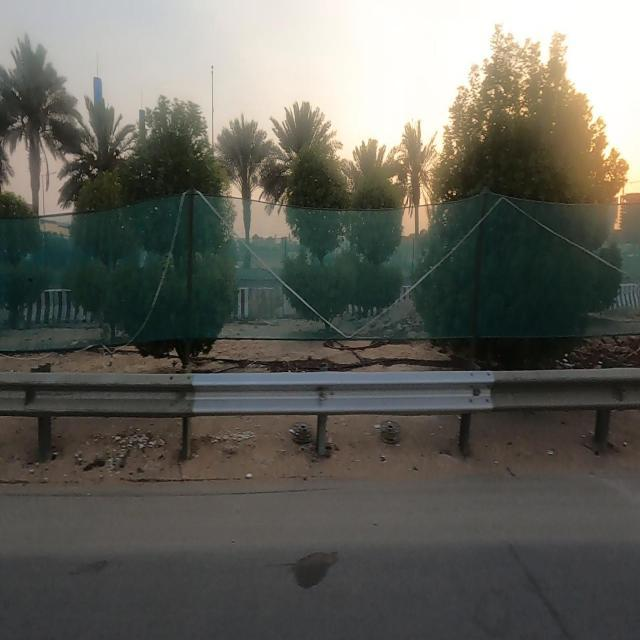debris: (41, 404, 151, 511), (107, 396, 180, 488), (186, 404, 260, 482), (224, 441, 276, 519)
